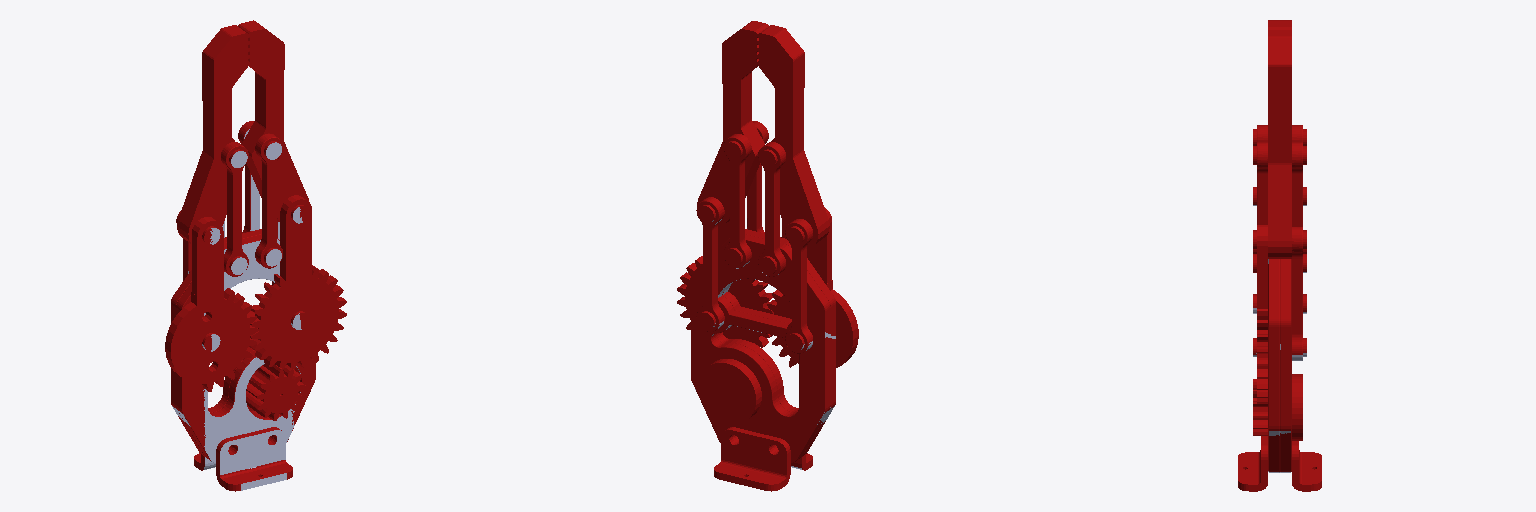
The robot description file, URDF, robot "Assem6.SLDASM":
<?xml version="1.0" encoding="utf-8"?>
<!-- This URDF was automatically created by SolidWorks to URDF Exporter! Originally created by [author] ([email redacted]) 
     Commit Version: 1.5.1-0-g916b5db  Build Version: 1.5.7152.31018
     For more information, please see http://wiki.ros.org/sw_urdf_exporter -->
<robot
  name="Assem6.SLDASM">
  <link
    name="gripper_base">
    <inertial>
      <origin
        xyz="-0.000423874658945828 0.0270489334970193 0.00202069857196371"
        rpy="0 0 0" />
      <mass
        value="0.00483102003103807" />
      <inertia
        ixx="1.38411480569428E-06"
        ixy="-4.00945048304451E-08"
        ixz="8.4005154816795E-15"
        iyy="6.57287988539018E-07"
        iyz="2.96792348290991E-09"
        izz="2.02910792860384E-06" />
    </inertial>
    <visual>
      <origin
        xyz="0 0 0"
        rpy="0 0 0" />
      <geometry>
        <mesh
          filename="package://Assem6.SLDASM/meshes/gripper_base.STL" />
      </geometry>
      <material
        name="">
        <color
          rgba="0.792156862745098 0.819607843137255 0.933333333333333 1" />
      </material>
    </visual>
    <collision>
      <origin
        xyz="0 0 0"
        rpy="0 0 0" />
      <geometry>
        <mesh
          filename="package://Assem6.SLDASM/meshes/gripper_base.STL" />
      </geometry>
    </collision>
  </link>
  <link
    name="gripper_right">
    <inertial>
      <origin
        xyz="-0.00084248815409376 0.00381485121883249 -0.011086056602204"
        rpy="0 0 0" />
      <mass
        value="0.00596550984411769" />
      <inertia
        ixx="9.56112856867454E-07"
        ixy="-4.28298934156437E-24"
        ixz="-3.26863313385363E-23"
        iyy="8.61567214743861E-07"
        iyz="6.04950359157059E-08"
        izz="1.60894551683634E-07" />
    </inertial>
    <visual>
      <origin
        xyz="0 0 0"
        rpy="0 0 0" />
      <geometry>
        <mesh
          filename="package://Assem6.SLDASM/meshes/gripper_right.STL" />
      </geometry>
      <material
        name="">
        <color
          rgba="0.694117647058824 0.0941176470588235 0.0941176470588235 1" />
      </material>
    </visual>
    <collision>
      <origin
        xyz="0 0 0"
        rpy="0 0 0" />
      <geometry>
        <mesh
          filename="package://Assem6.SLDASM/meshes/gripper_right.STL" />
      </geometry>
    </collision>
  </link>
  <joint
    name="right_gripper_joint"
    type="fixed">
    <origin
      xyz="0.0135 -0.003 0.0376"
      rpy="3.1416 0 -1.5708" />
    <parent
      link="gripper_base" />
    <child
      link="gripper_right" />
    <axis
      xyz="0 0 0" />
    <mimic
      joint="left_gripper_joint"
      multiplier="1"
      offset="0" />
  </joint>
  <link
    name="left_gripper">
    <inertial>
      <origin
        xyz="-0.00335779506191281 0.00673686992025581 -0.026881196843319"
        rpy="0 0 0" />
      <mass
        value="0.00383024372678011" />
      <inertia
        ixx="8.70244848187855E-07"
        ixy="-6.6697469096319E-24"
        ixz="1.04854574866522E-23"
        iyy="7.6026358321787E-07"
        iyz="1.41814391699808E-07"
        izz="1.15723781650982E-07" />
    </inertial>
    <visual>
      <origin
        xyz="0 0 0"
        rpy="0 0 0" />
      <geometry>
        <mesh
          filename="package://Assem6.SLDASM/meshes/left_gripper.STL" />
      </geometry>
      <material
        name="">
        <color
          rgba="0.694117647058824 0.0941176470588235 0.0941176470588235 1" />
      </material>
    </visual>
    <collision>
      <origin
        xyz="0 0 0"
        rpy="0 0 0" />
      <geometry>
        <mesh
          filename="package://Assem6.SLDASM/meshes/left_gripper.STL" />
      </geometry>
    </collision>
  </link>
  <joint
    name="left_gripper_joint"
    type="continuous">
    <origin
      xyz="-0.0135 0 0.0376"
      rpy="3.0107 0 1.5708" />
    <parent
      link="gripper_base" />
    <child
      link="left_gripper" />
    <axis
      xyz="1 0 0" />
    <limit
      lower="1.7017"
      upper="3.0107"
      effort="1000"
      velocity="1" />
  </joint>
</robot>

--- Facts derived from the render (not from the file) ---
Views: 3 orthographic renders of the robot side by side, from view 1: azimuth 30°, elevation 25°; view 2: azimuth 150°, elevation 25°; view 3: azimuth 270°, elevation 25°.
Robot: Assem6.SLDASM — 3 links, 2 joints (1 continuous, 1 fixed); root link gripper_base; default pose: all joints at 0.
Links seen in each view (by area): view 1: gripper_right, left_gripper, gripper_base; view 2: gripper_right, left_gripper; view 3: gripper_right, left_gripper.
Link boxes in pixels (left/top/right/bottom): gripper_right: left=165, top=21, right=346, bottom=479; left_gripper: left=165, top=20, right=303, bottom=491; gripper_base: left=172, top=129, right=302, bottom=490; gripper_right: left=677, top=21, right=858, bottom=490; left_gripper: left=691, top=25, right=858, bottom=491; gripper_right: left=1238, top=20, right=1321, bottom=491; left_gripper: left=1238, top=21, right=1321, bottom=482.
Bounding box of the posed robot: 0.0536 × 0.022 × 0.1284 m (x, y, z).
3 mesh visuals loaded from 3 distinct referenced files (3 binary STL).